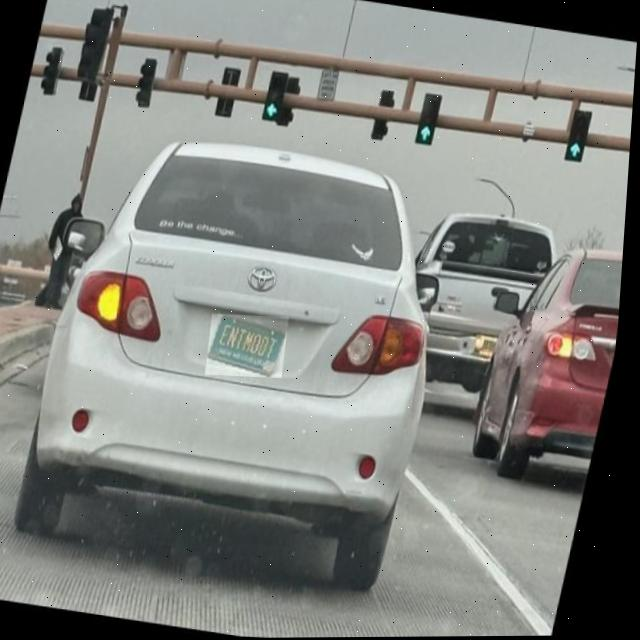LicensePlate: (212, 315, 292, 378)
